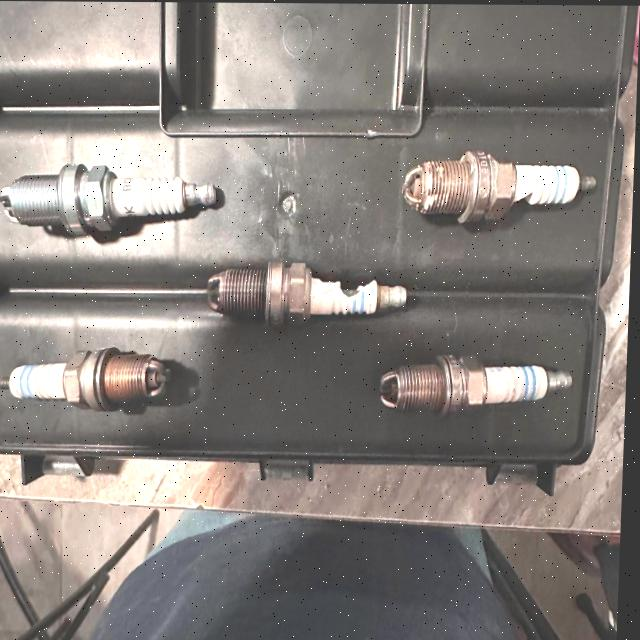damaged_spark-plug: (400, 154, 605, 221), (207, 266, 407, 329)
spark-plug: (0, 158, 229, 244), (0, 340, 189, 411), (375, 362, 585, 413)
